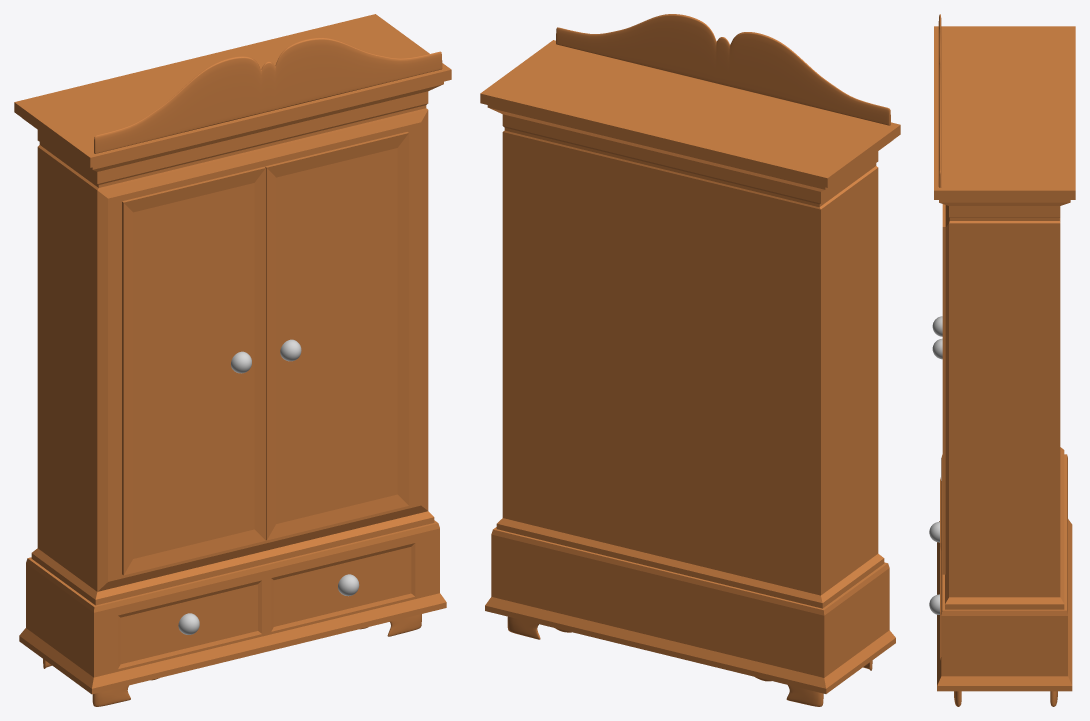
File: waredrobe.fbx
The picture shows the model from 3 angles, left to right: view 1: azimuth 30°, elevation 25°; view 2: azimuth 150°, elevation 25°; view 3: azimuth 270°, elevation 25°; orthographic projection. The views are drawn at different scales.
Parts seen in each view (by area): view 1: Wardrobe, LeftDors, RightDors; view 2: Wardrobe; view 3: Wardrobe, RightDors.
Boxes of the visible parts, x1,y1,x2,y2 form: Wardrobe: (14,14,451,706); LeftDors: (122,166,265,575); RightDors: (265,132,408,540); Wardrobe: (480,14,900,706); Wardrobe: (929,14,1075,706); RightDors: (932,204,945,574).
Bounding box in the file's own units: 584 × 966 × 220.
